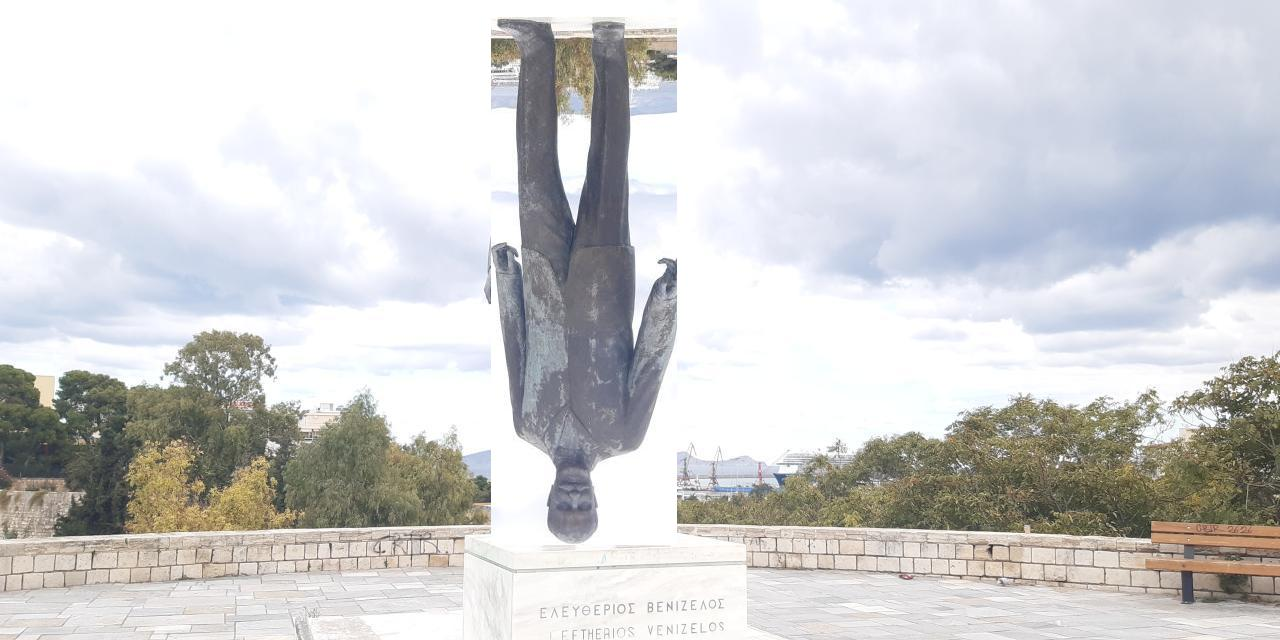Venizelos: (492, 18, 678, 546)
